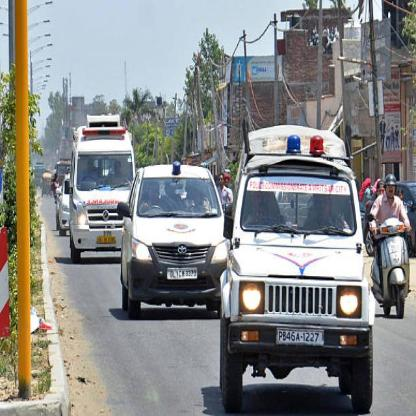priority: (64, 106, 140, 266)
